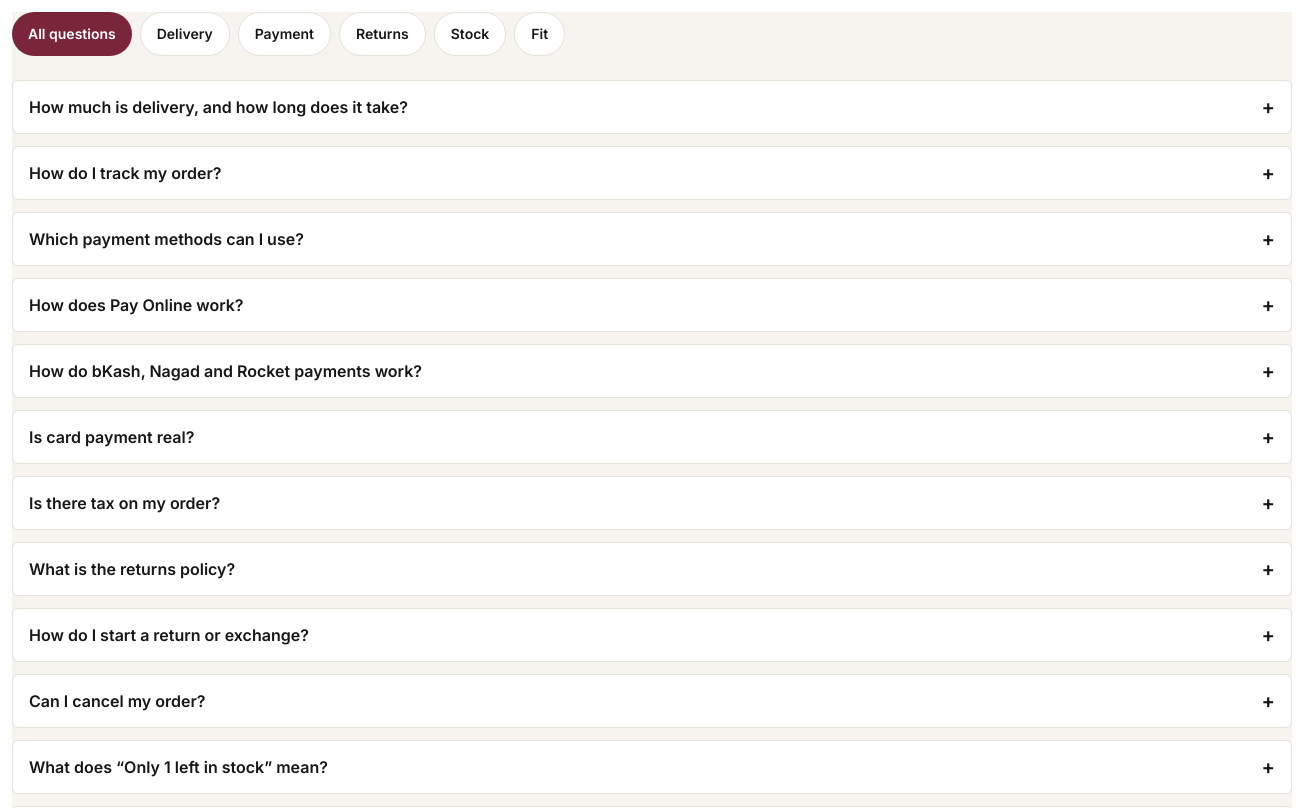
Test case: Help / FAQ (S-5, T-50) › opens one accordion at a time, with aria-expanded announced
Later steps or results of the test are not shown.
Click the button "How much is delivery, and how long does it take?".
click(219, 107)  # box [13, 81, 1291, 133]
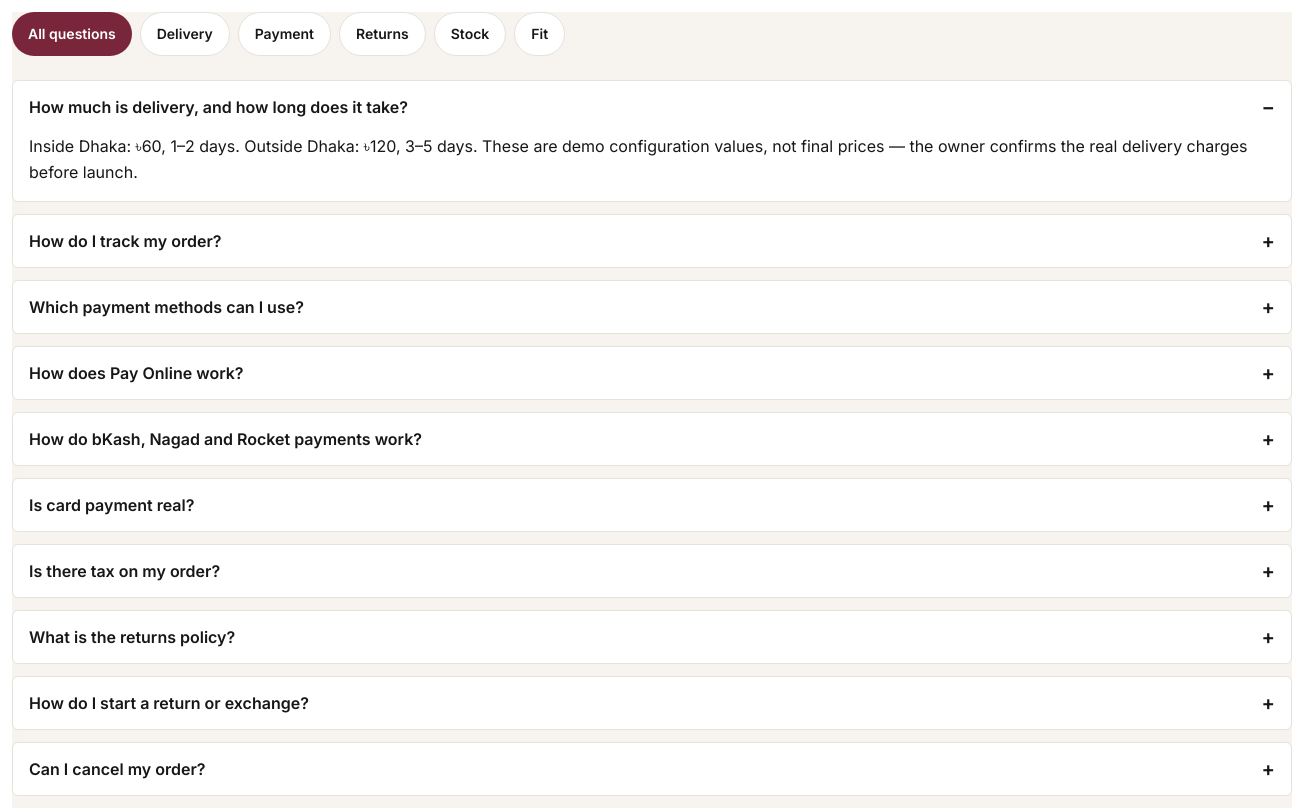
Result: the text "Inside Dhaka: ৳60" is shown at [29, 136, 1248, 182]
Click the button "Which payment methods can I use? +".
click(166, 307)  # box [13, 281, 1291, 333]
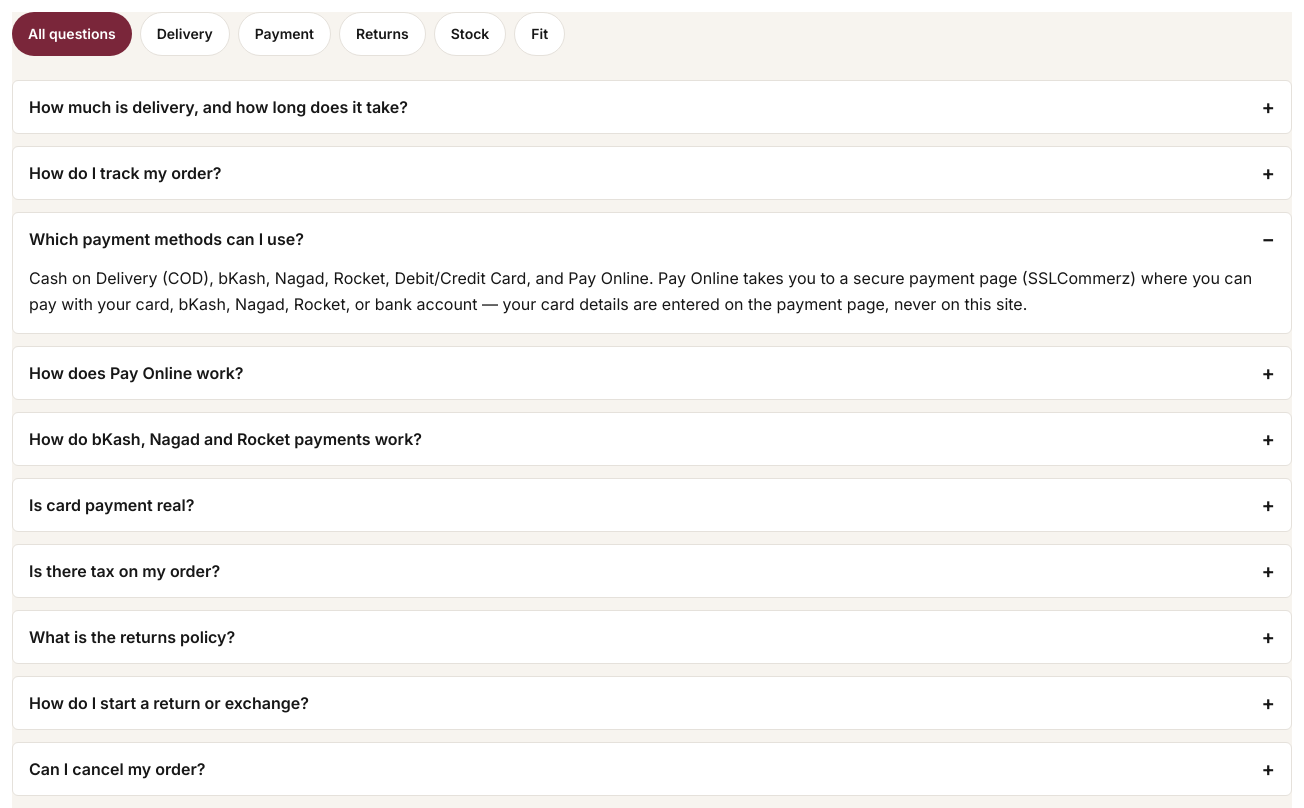
Result: the button "Which payment methods can I use? −" is expanded at [13, 213, 1291, 265]
Result: the text "Inside Dhaka: ৳60" is gone
